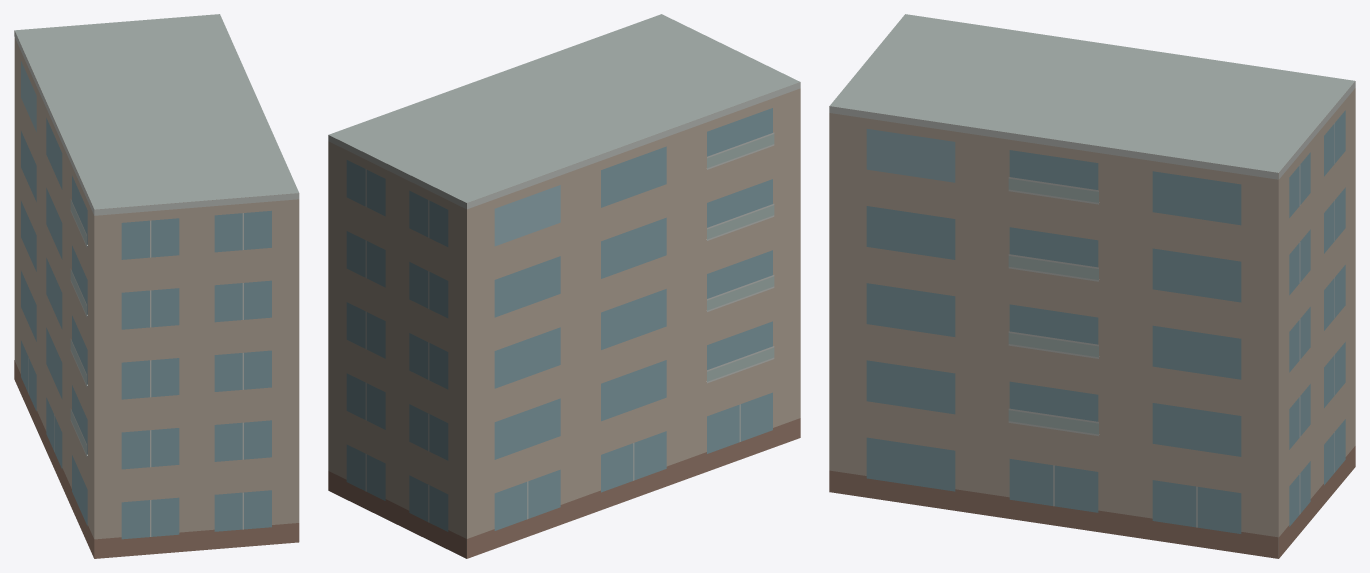
File: survey-upis-32854283.glb
3 views of the same model, side by side, from view 1: azimuth 30°, elevation 25°; view 2: azimuth 150°, elevation 25°; view 3: azimuth 270°, elevation 25° (orthographic). The views are drawn at different scales.
Parts seen in each view (by area): view 1: survey-upis-32854283.tmp; view 2: survey-upis-32854283.tmp; view 3: survey-upis-32854283.tmp.
Boxes of the visible parts, box(x1,y1,x2,y2) form: survey-upis-32854283.tmp: box(14, 14, 299, 558); survey-upis-32854283.tmp: box(328, 14, 800, 558); survey-upis-32854283.tmp: box(829, 14, 1355, 558).
Size of the model in its own units: 12.1 by 13.7 by 16.93.
